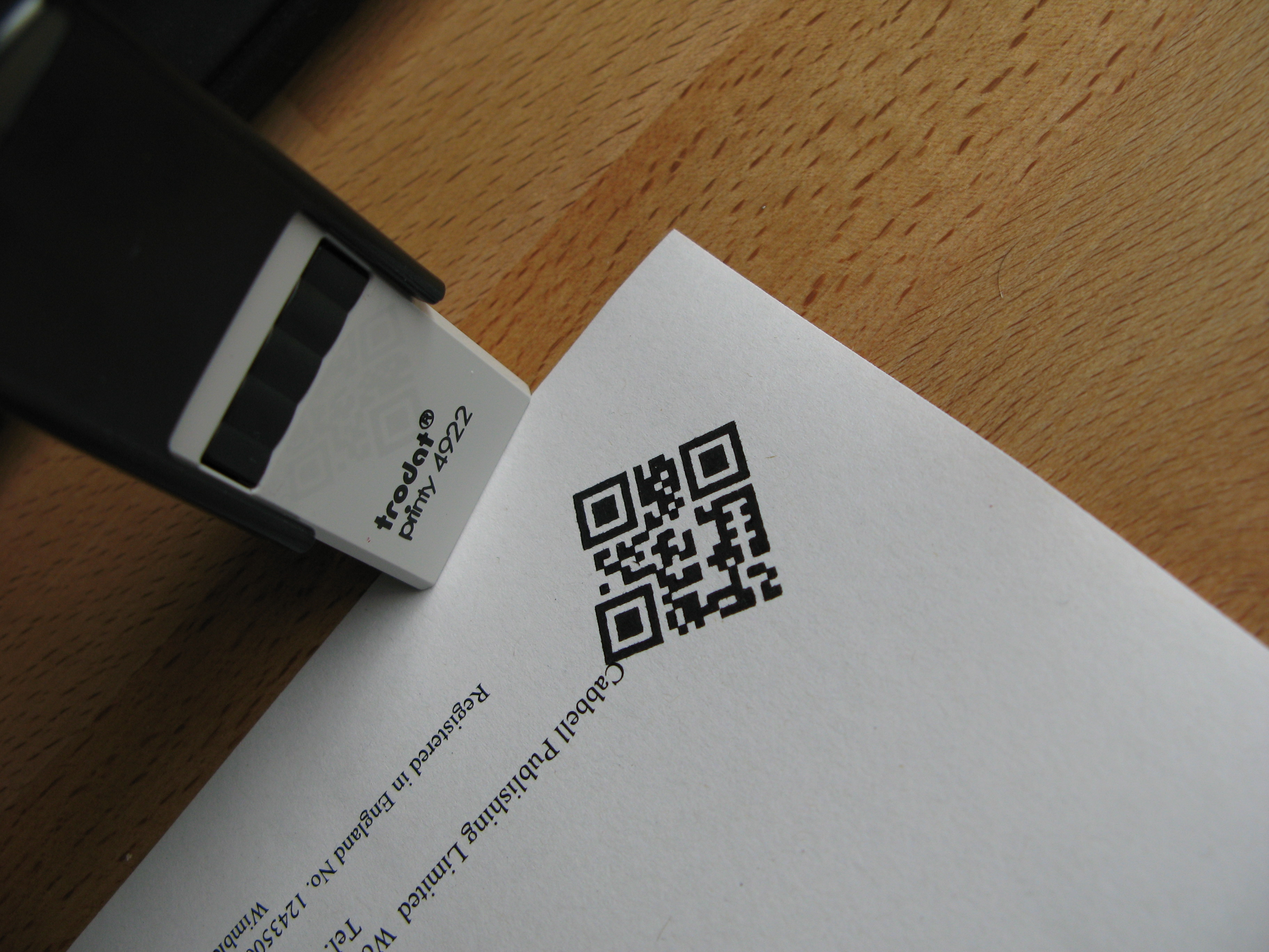QR-CODE: (573, 420, 784, 665)
